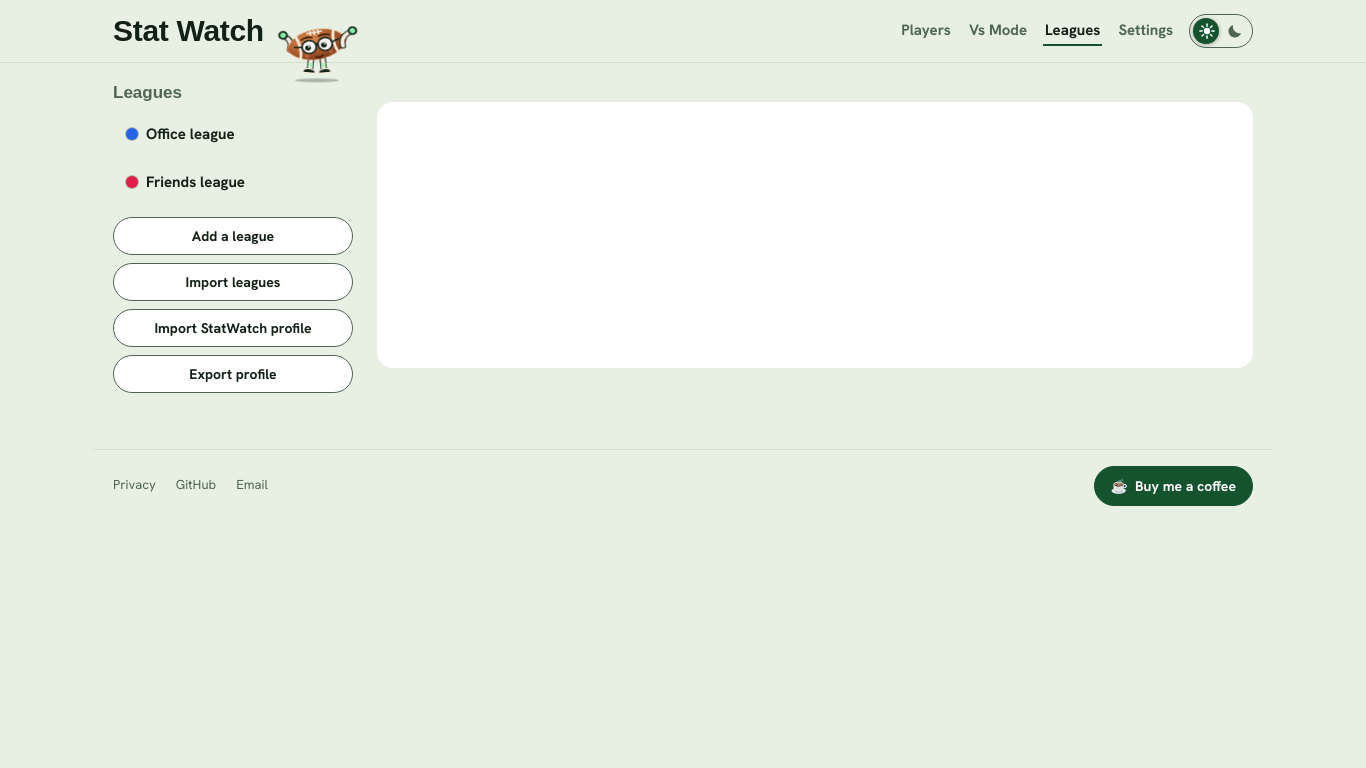
Scenario: leagues page › shows the form and a Delete league button in the left menu once a league is selected
What coordinates should you click on to do the following:
click the button "Office league"
I would click on:
 (233, 135)
Its box is [113,113,353,157].
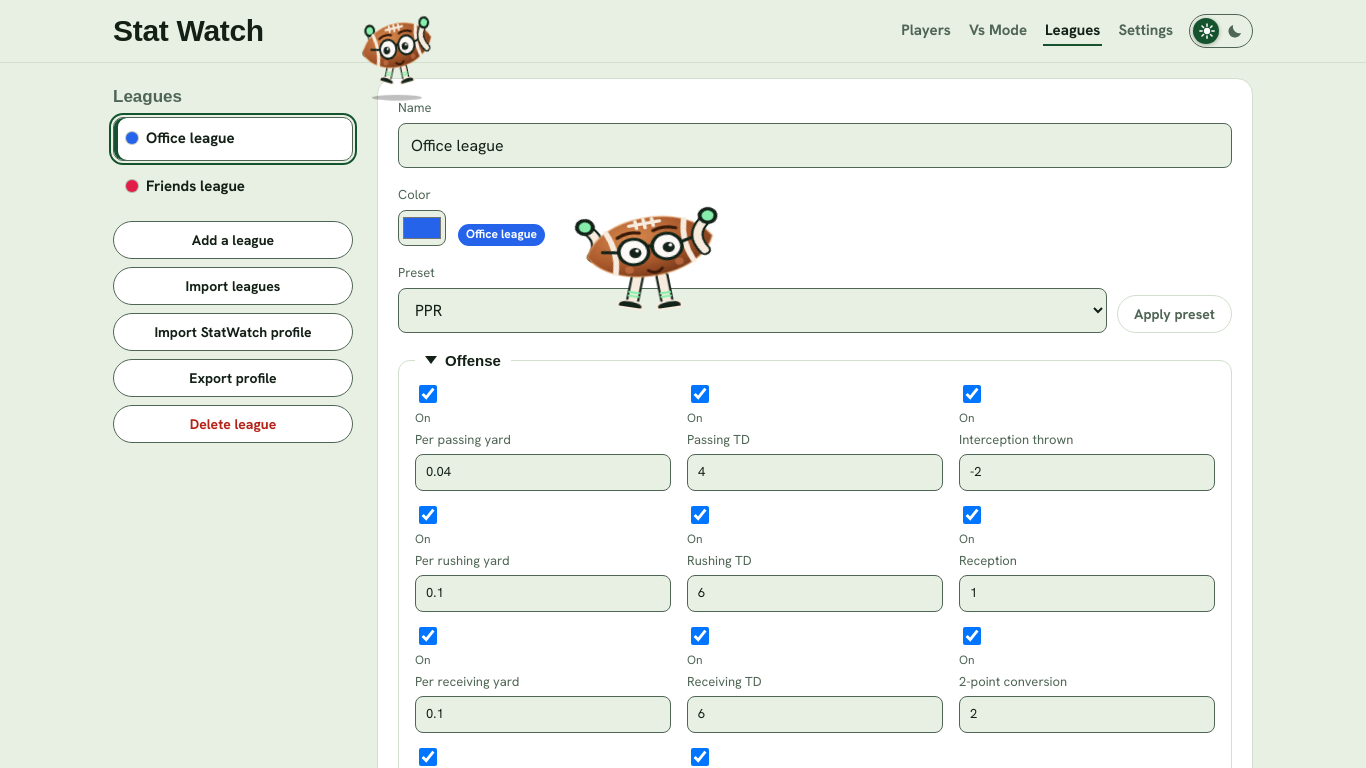
Expected: the element with class "mascot-says" is gone
Expected: the number of buttons "Delete league" is 1, [113,404,353,442]
